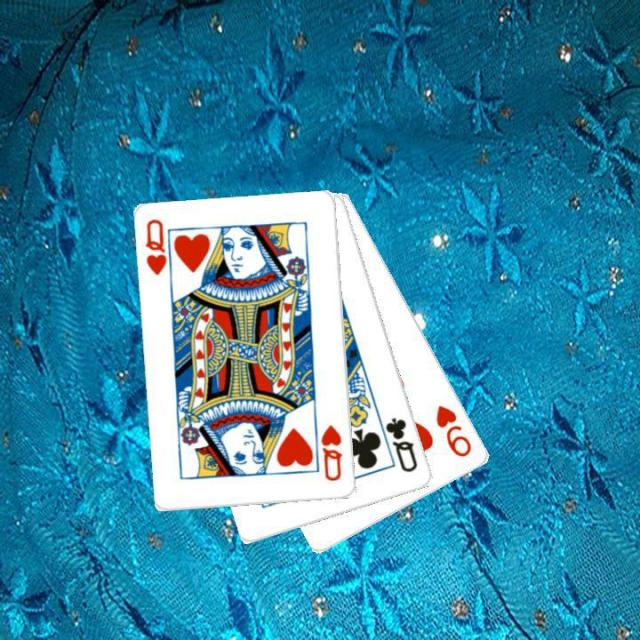9H: (432, 401, 474, 459)
QC: (382, 413, 420, 475)
QH: (142, 215, 175, 285), (317, 422, 345, 484)
